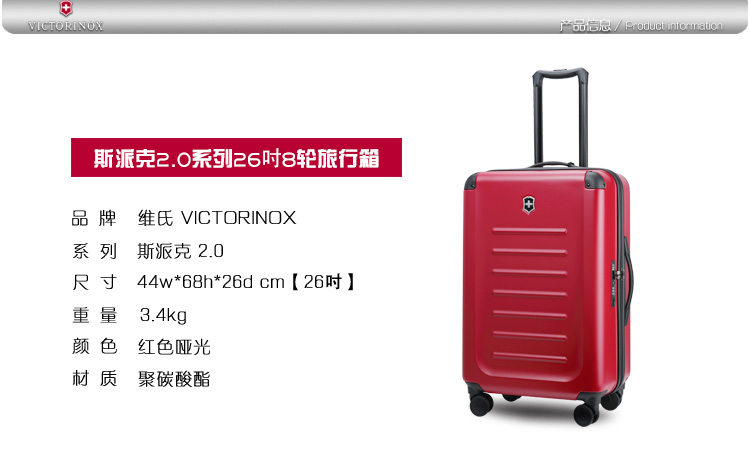suitcase: (460, 70, 636, 427)
